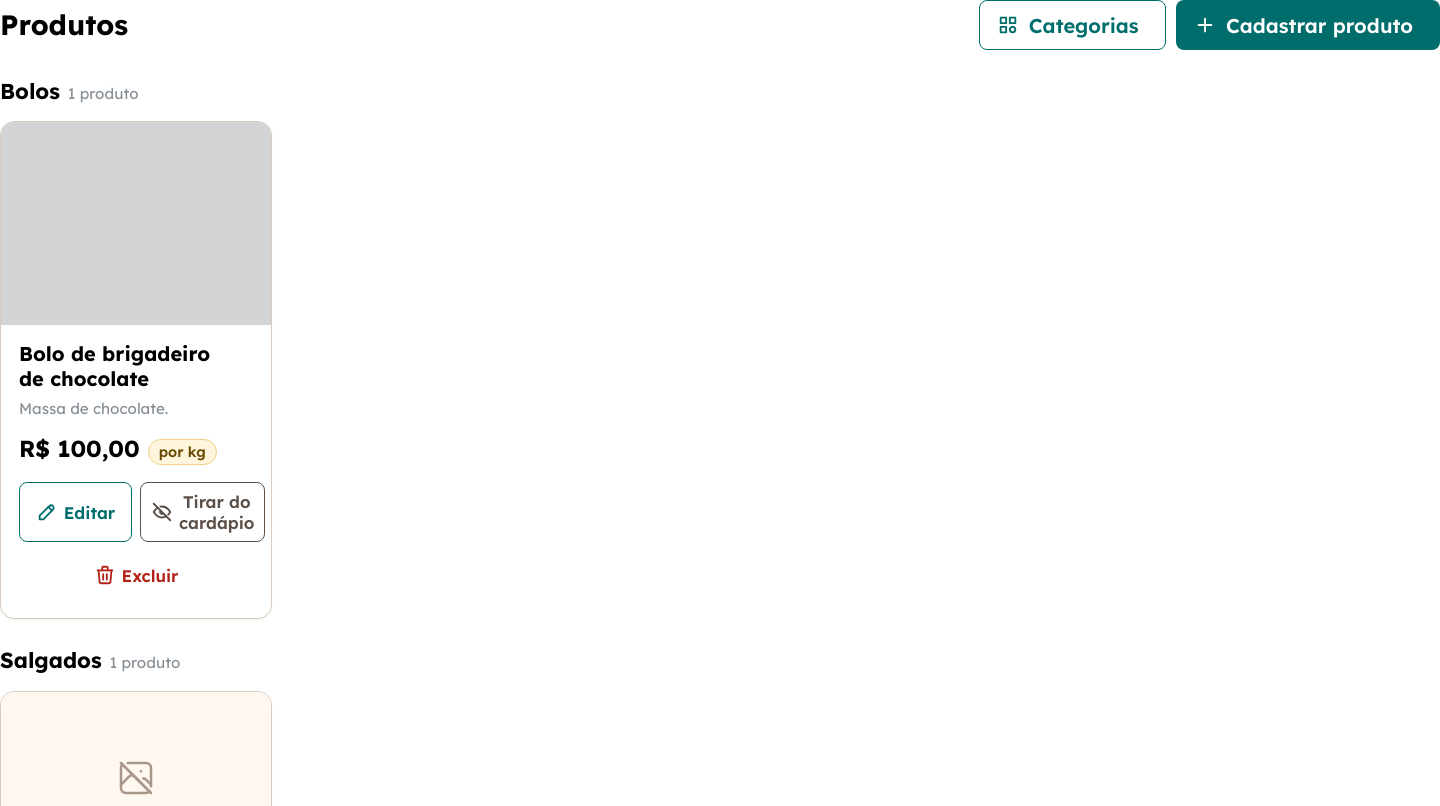
Lista de produtos (ZAP-41, RF05, RF06) › avisa quando não consegue excluir e mantém o produto
Step 1. Click the button with aria-label "Excluir Bolo de brigadeiro de chocolate" → {"x": 136, "y": 576}, box [19,550,253,600]
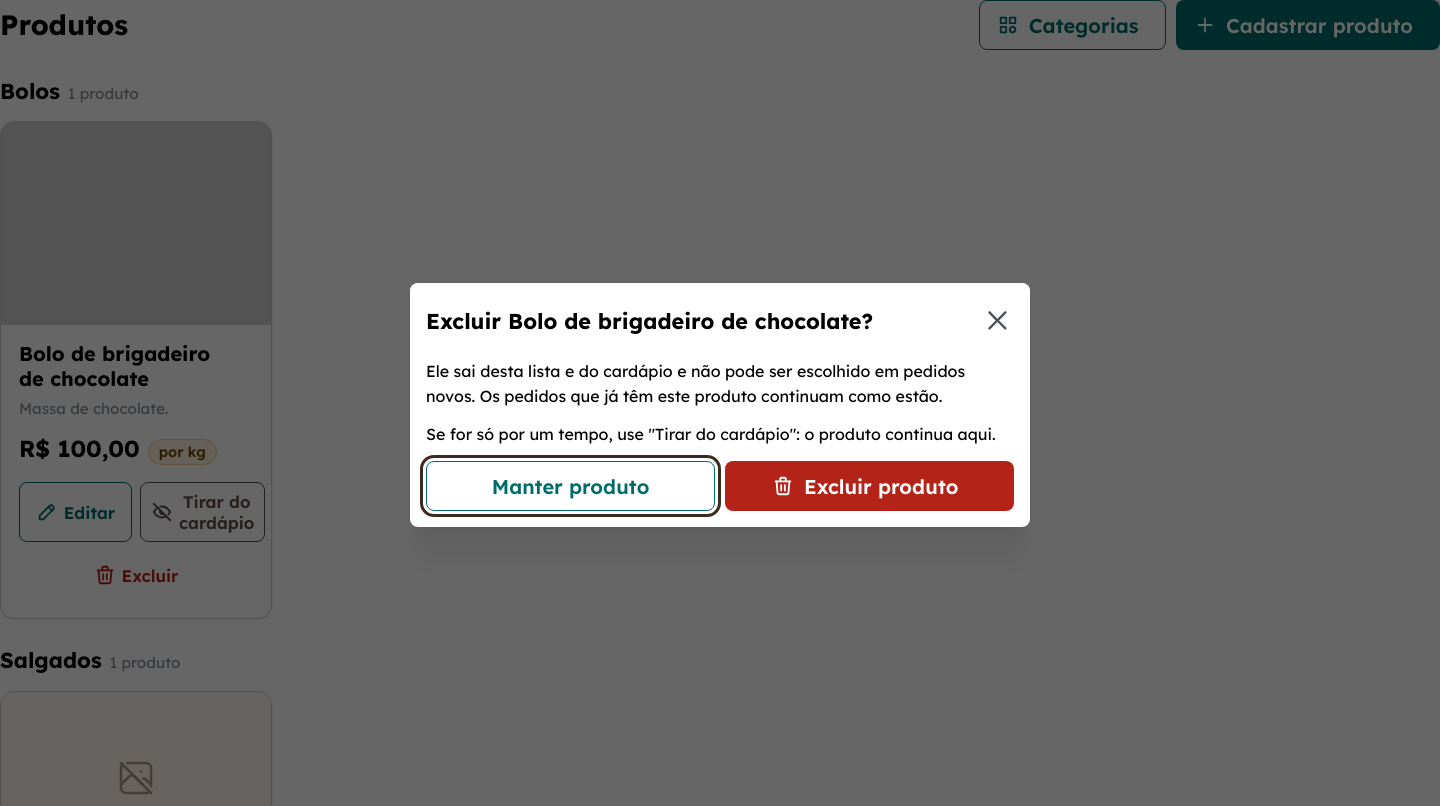
Step 2. Click the button "Excluir produto" → {"x": 870, "y": 486}, box [725,461,1014,511]
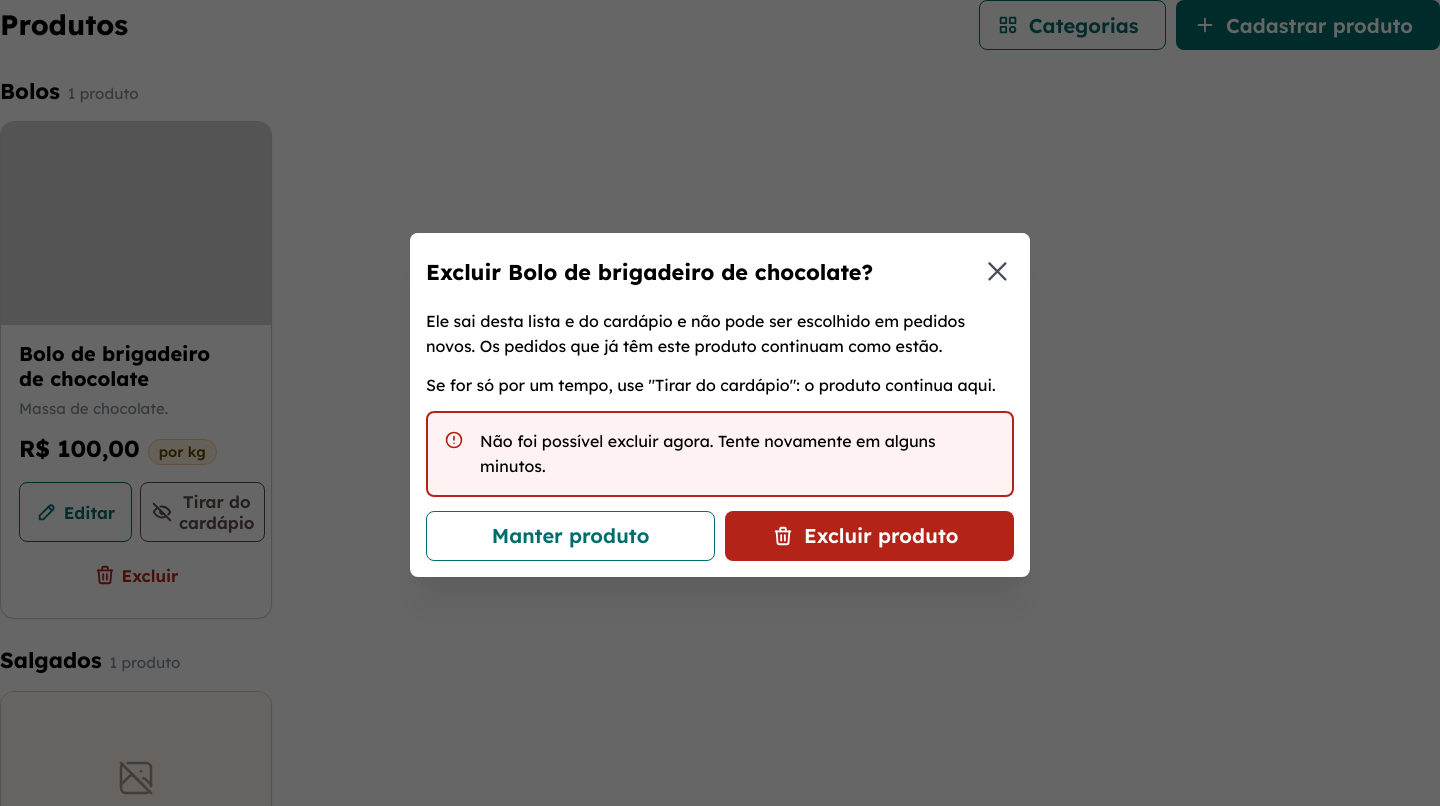
Expected: the element "Bolo de brigadeiro de chocolate" is shown, [0,122,272,620]
Expected: the message shows "Não foi possível excluir agora", [480,431,936,476]
